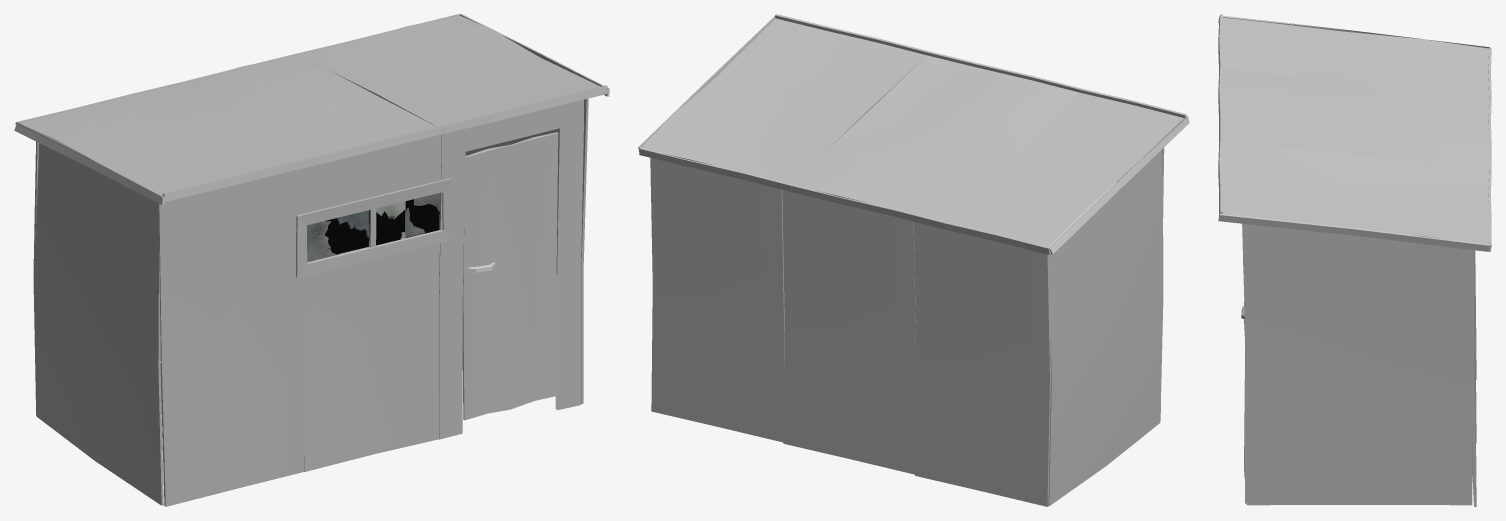
File: Saray_01.FBX
3 views of the same model, side by side, from view 1: azimuth 30°, elevation 25°; view 2: azimuth 150°, elevation 25°; view 3: azimuth 270°, elevation 25° (orthographic). The views are drawn at different scales.
Parts seen in each view (by area): view 1: Saray, glass_00; view 2: Saray; view 3: Saray.
Part boxes in pixels (x1,y1,x2,y2): Saray: [14, 14, 609, 506]; glass_00: [306, 193, 439, 262]; Saray: [638, 14, 1189, 506]; Saray: [1218, 14, 1491, 506].
Bounding box in the file's own units: 2.69 × 1.87 × 1.55.
